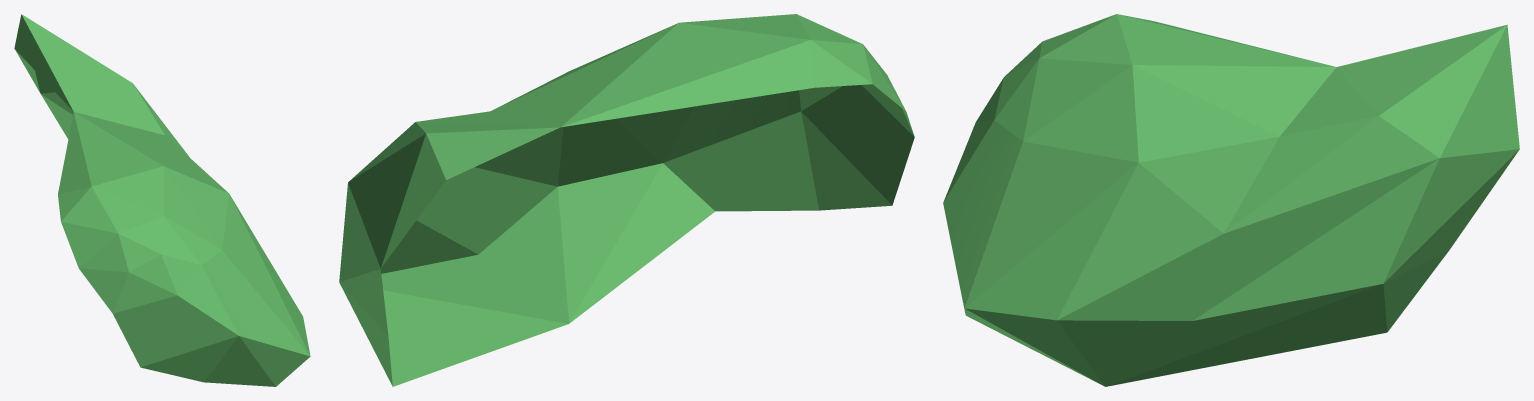
Rendered from ground.057.fbx.
3 views of the same model, side by side, from view 1: azimuth 30°, elevation 25°; view 2: azimuth 150°, elevation 25°; view 3: azimuth 270°, elevation 25° (orthographic). The views are drawn at different scales.
Visible parts, largest first — view 1: ground_057; view 2: ground_057; view 3: ground_057.
Boxes of the visible parts, x1,y1,x2,y2 form: ground_057: [14, 14, 310, 386]; ground_057: [339, 14, 914, 386]; ground_057: [943, 14, 1519, 386].
Size of the model in its own units: 3656 by 3906 by 6394.
